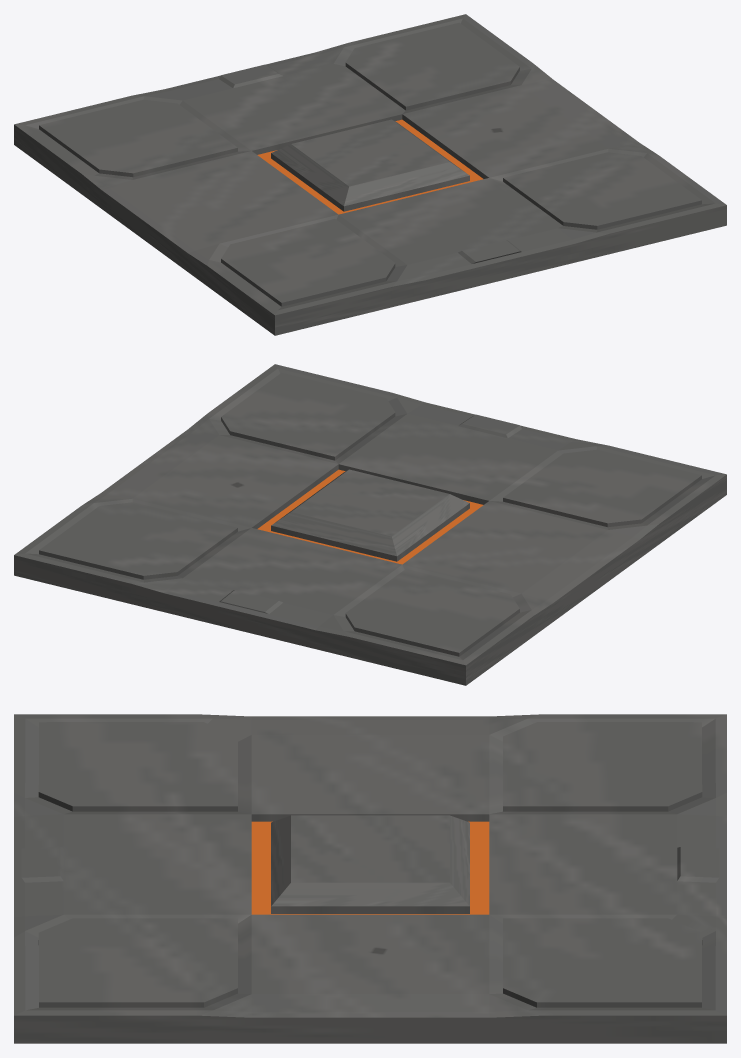
File: Platforma.fbx
The picture shows the model from 3 angles, top to bottom: view 1: azimuth 30°, elevation 25°; view 2: azimuth 150°, elevation 25°; view 3: azimuth 270°, elevation 25°; orthographic projection. The views are drawn at different scales.
Parts seen in each view (by area): view 1: Cubo; view 2: Cubo; view 3: Cubo.
Boxes of the visible parts, x1,y1,x2,y2 form: Cubo: [14, 14, 726, 335]; Cubo: [14, 364, 726, 685]; Cubo: [14, 714, 726, 1043].
Bounding box in the file's own units: 572 × 38.96 × 572.
